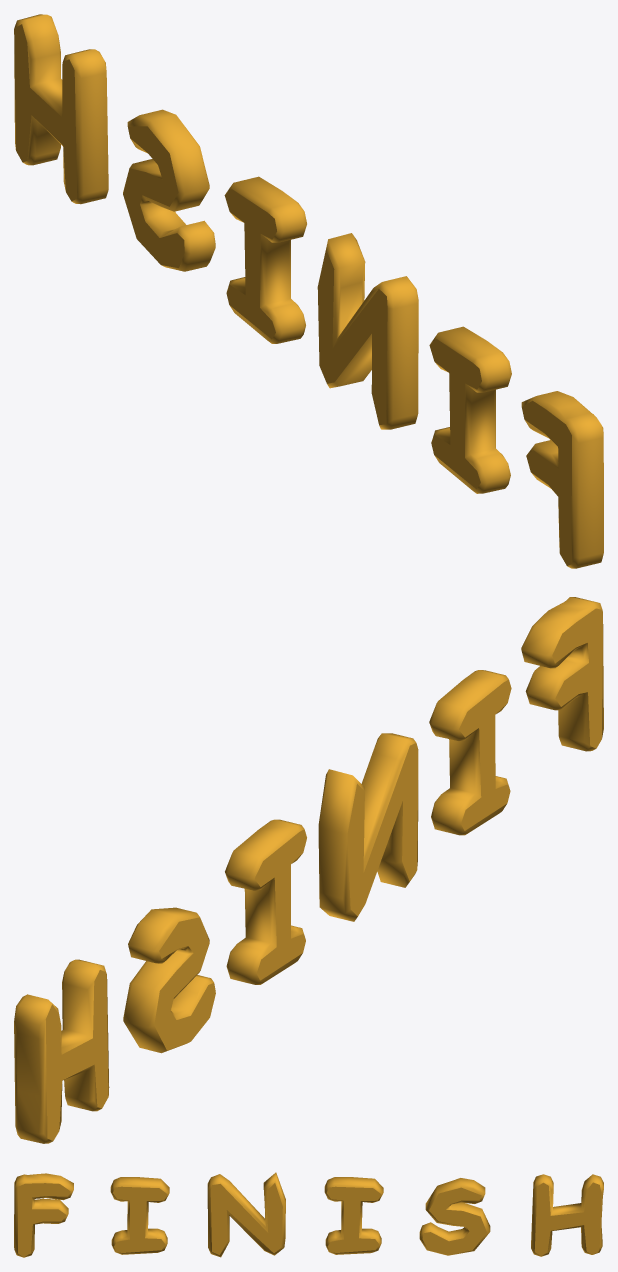
File: FINISH.fbx
The picture shows the model from 3 angles, top to bottom: view 1: azimuth 30°, elevation 25°; view 2: azimuth 150°, elevation 25°; view 3: azimuth 270°, elevation 25°; orthographic projection. The views are drawn at different scales.
Parts seen in each view (by area): view 1: Text.001; view 2: Text.001; view 3: Text.001.
Part boxes in pixels (x1=…): Text.001: x1=14, y1=14, x2=603, y2=568; Text.001: x1=14, y1=597, x2=603, y2=1143; Text.001: x1=14, y1=1172, x2=603, y2=1257.
Bounding box in the file's own units: 13.98 × 65.51 × 437.
